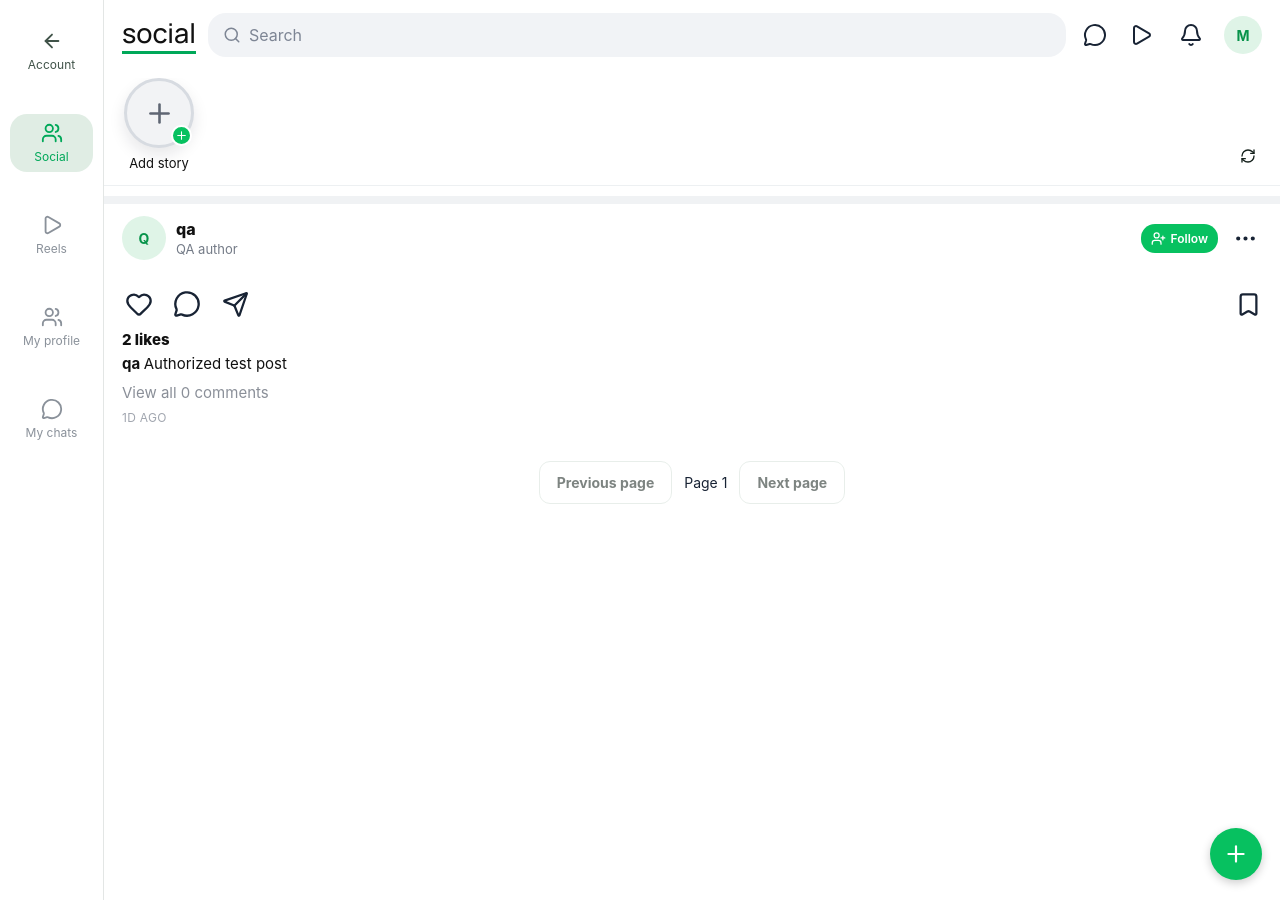
Test case: Social preserves existing personal boundaries › loads canonical supplied feed and real empty notifications
The image size is (1280, 900).
Expected: the text "Authorized test post" is shown, [144,354,287,373]
Step 1. Click the button named "Notifications" → {"x": 1191, "y": 35}, box [1170,14,1212,56]
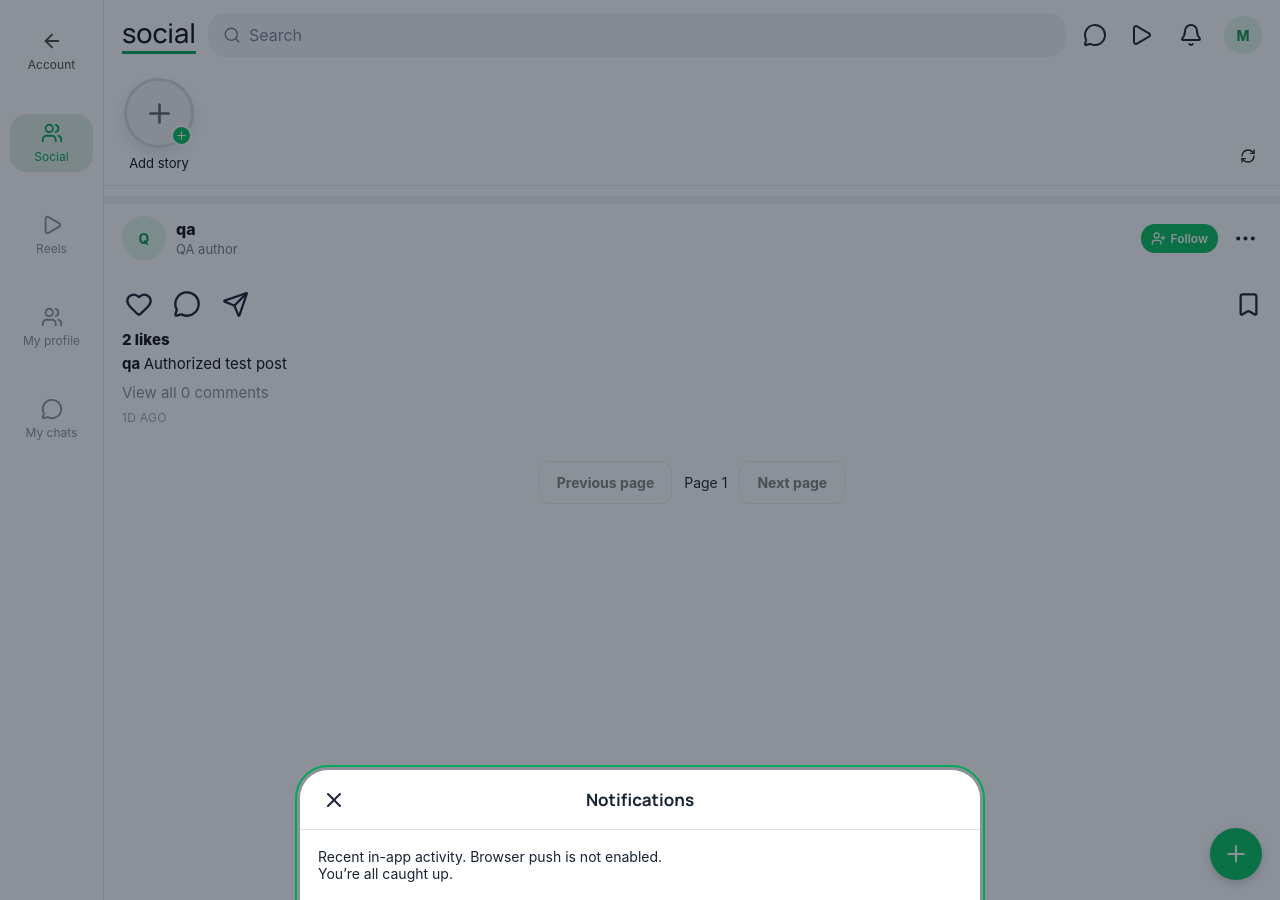
Result: the text "You’re all caught up." is shown at [318,865,453,882]
